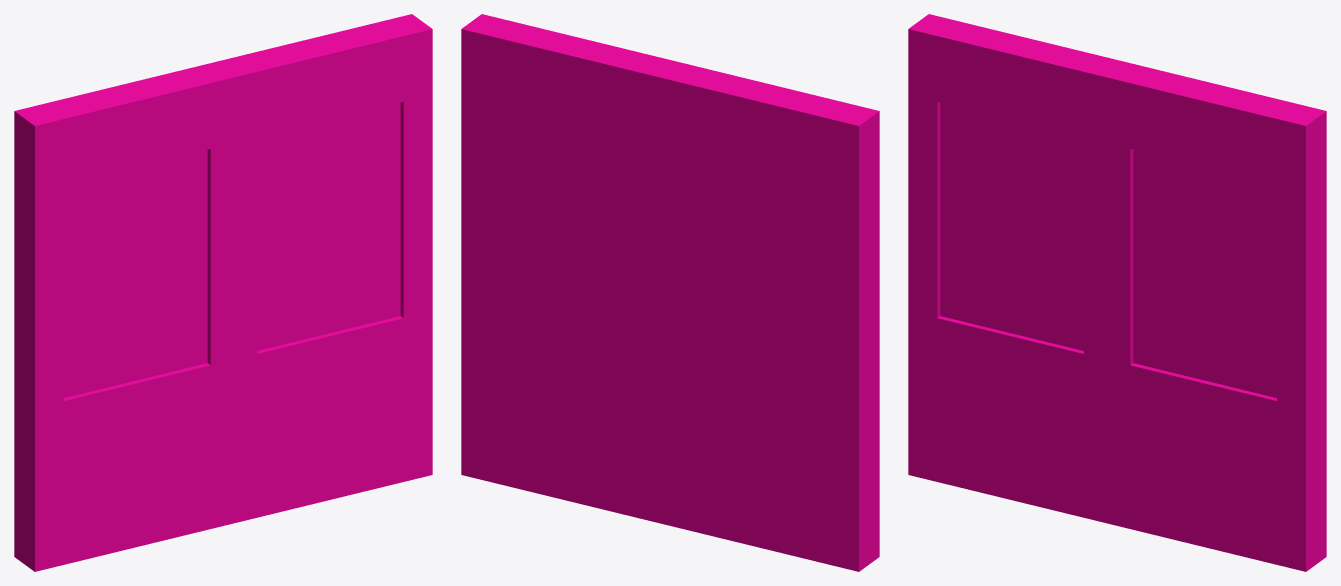
Rendered from Door_Entrance.fbx.
3 renders of one model, left to right at view 1: azimuth 30°, elevation 25°; view 2: azimuth 150°, elevation 25°; view 3: azimuth 330°, elevation 25°, orthographic.
Parts seen in each view (by area): view 1: Door; view 2: Door; view 3: Door.
Boxes of the visible parts, x1,y1,x2,y2 form: Door: (14, 14, 432, 571); Door: (461, 14, 879, 571); Door: (908, 14, 1326, 571).
Size of the model in its own units: 210 by 225 by 18.79.
